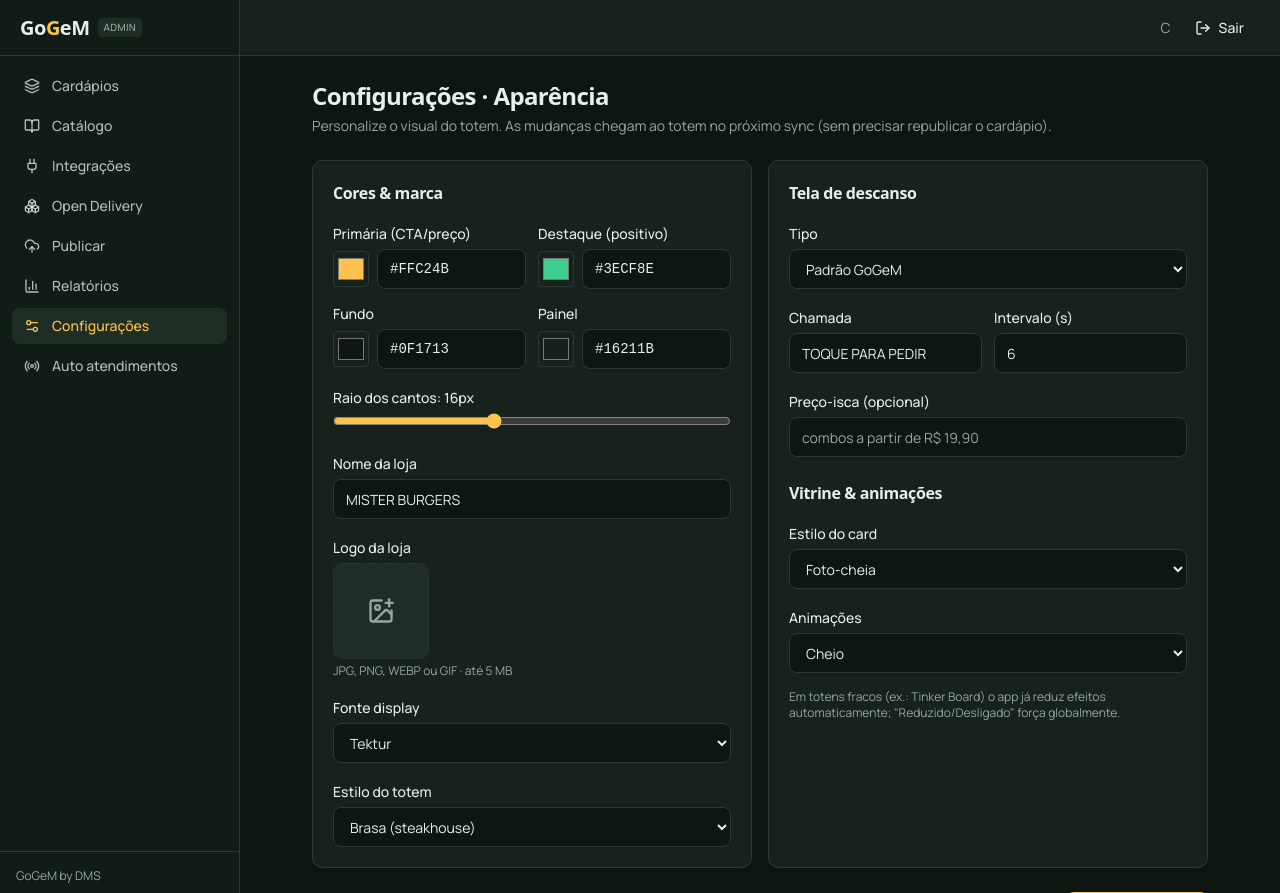
Configurações · Aparência › mostra as mídias do carrossel só quando tipo = carrossel
expect the field labelled "Nome da loja" is shown: met, box [333, 479, 731, 519]
expect the text "Mídias do carrossel" is not shown: met
Select "Carrossel (mídia da loja)" in the dropdown labelled "Tipo" at (988, 269), box [789, 249, 1187, 289]
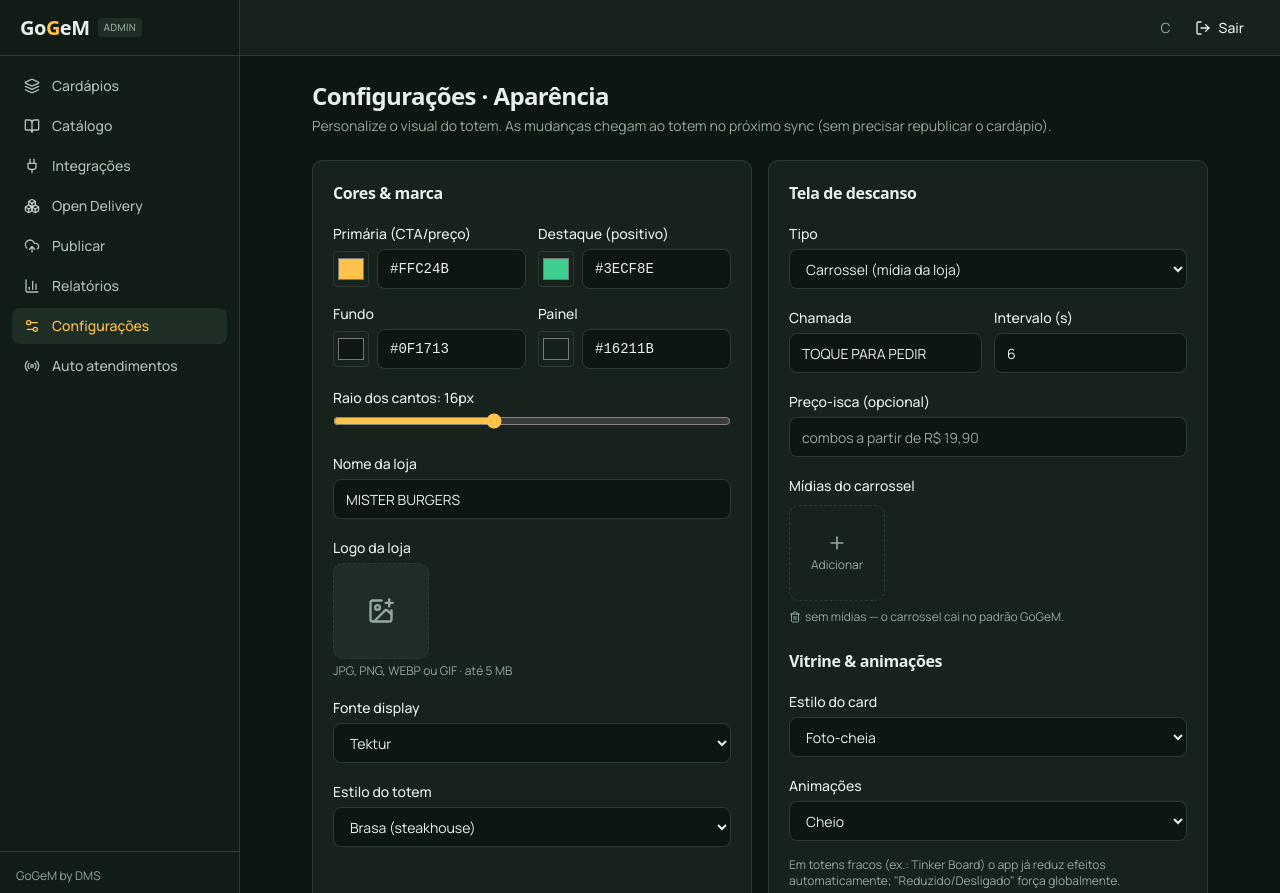
expect the text "Mídias do carrossel" is shown: met, box [789, 476, 915, 495]
